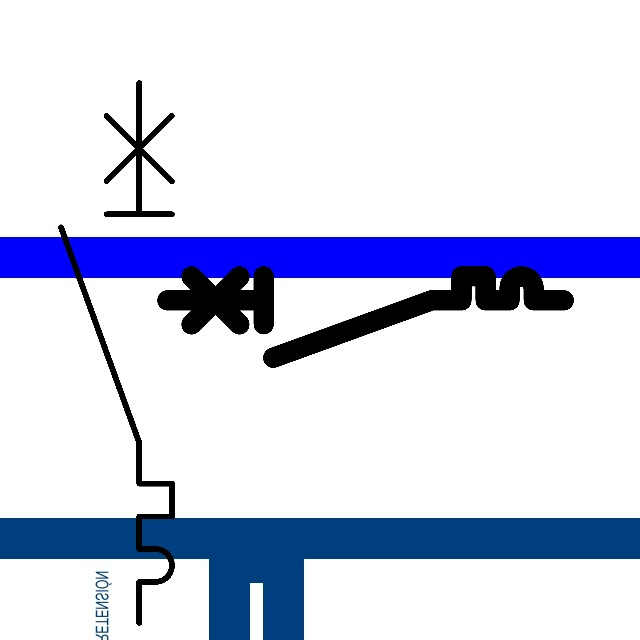interruptor_termomagnetico: (47, 69, 186, 637), (157, 266, 574, 368)
